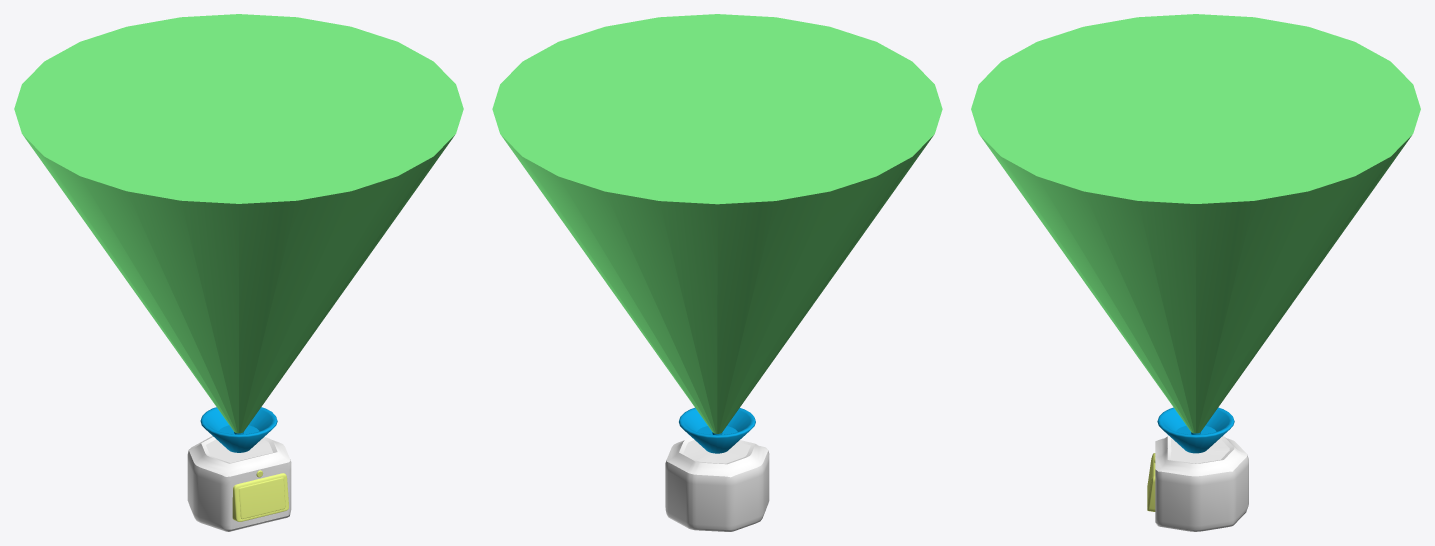
File: HologramaEXP.fbx
3 renders of one model, left to right at view 1: azimuth 30°, elevation 25°; view 2: azimuth 150°, elevation 25°; view 3: azimuth 270°, elevation 25°, orthographic.
Visible parts, largest first — view 1: ConoDeLuz, Box001, Box003, Cone001; view 2: ConoDeLuz, Box001, Cone001; view 3: ConoDeLuz, Box001, Cone001.
Boxes of the visible parts, x1=… form: ConoDeLuz: x1=14, y1=14, x2=463, y2=433; Box001: x1=187, y1=436, x2=291, y2=531; Box003: x1=232, y1=473, x2=288, y2=521; Cone001: x1=200, y1=407, x2=277, y2=452; ConoDeLuz: x1=492, y1=14, x2=942, y2=433; Box001: x1=665, y1=437, x2=769, y2=531; Cone001: x1=679, y1=408, x2=755, y2=453; ConoDeLuz: x1=971, y1=14, x2=1420, y2=433; Box001: x1=1155, y1=436, x2=1248, y2=531; Cone001: x1=1157, y1=407, x2=1234, y2=453.
Size of the model in its own units: 174 by 172 by 174.
